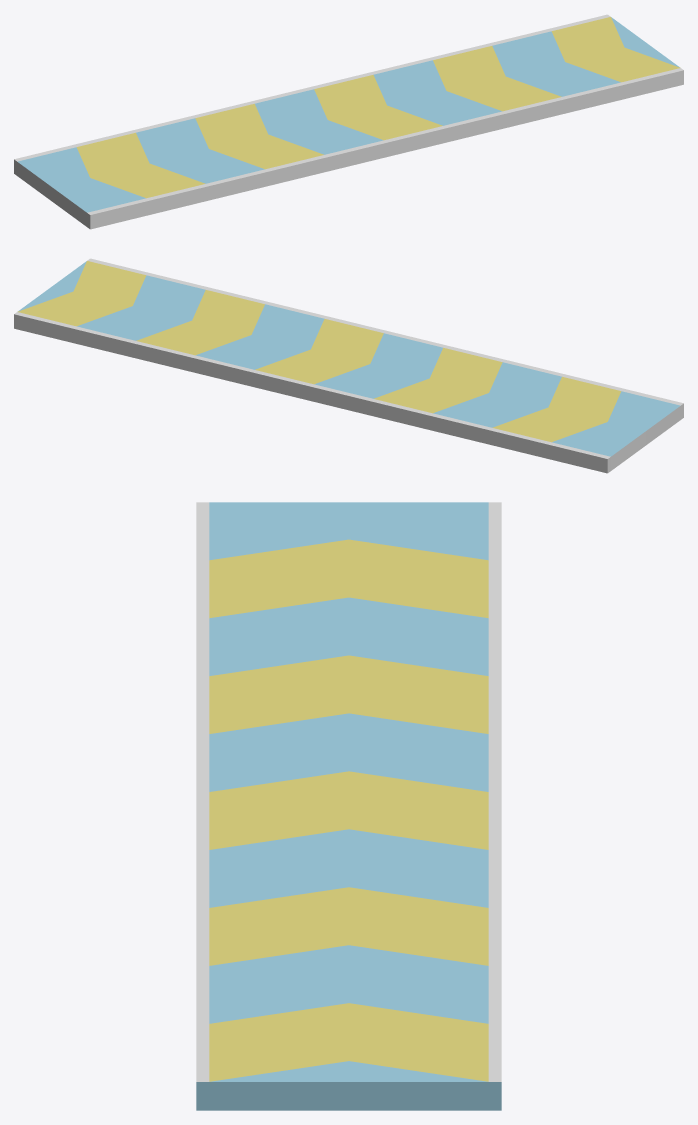
Rendered from ground03.fbx.
3 renders of one model, top to bottom at view 1: azimuth 30°, elevation 25°; view 2: azimuth 150°, elevation 25°; view 3: azimuth 270°, elevation 25°, orthographic. The views are drawn at different scales.
Parts seen in each view (by area): view 1: ground03; view 2: ground03; view 3: ground03.
Boxes of the visible parts, box(x1,y1,x2,y2) form: ground03: box(14, 14, 683, 229); ground03: box(14, 258, 683, 473); ground03: box(196, 502, 501, 1110).
Bounding box in the file's own units: 782 × 18.12 × 174.
